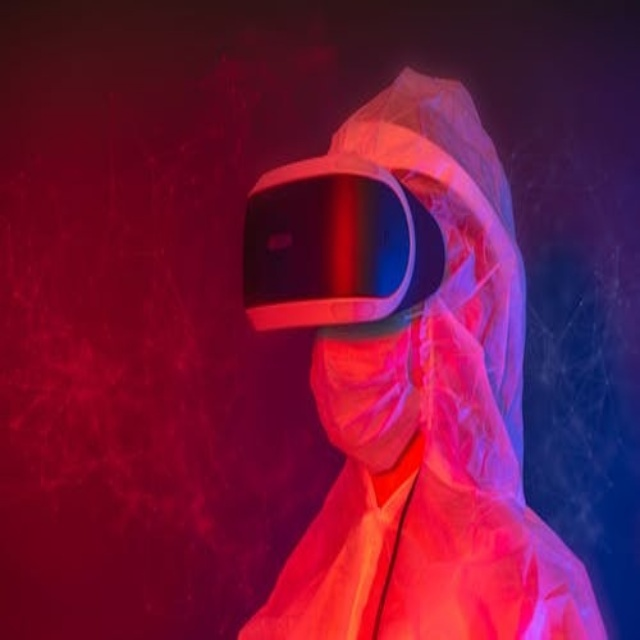Mascara: (312, 326, 422, 473)
